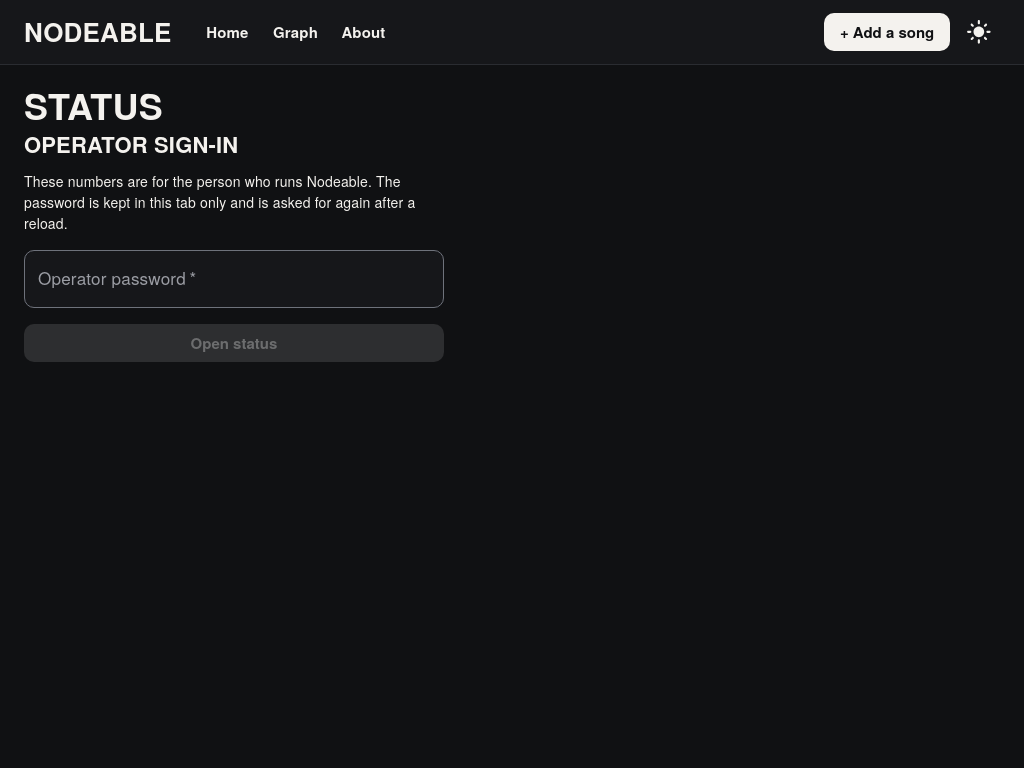
Scenario: the status page (NFR-OBS-03) › NFR_OBS_03 the right password shows the tiles, the objectives and every panel, and is kept nowhere but in memory
Step 1. Type "correct horse battery staple" into the password field labelled "Operator password *" → (234, 279), box [24, 250, 444, 308]
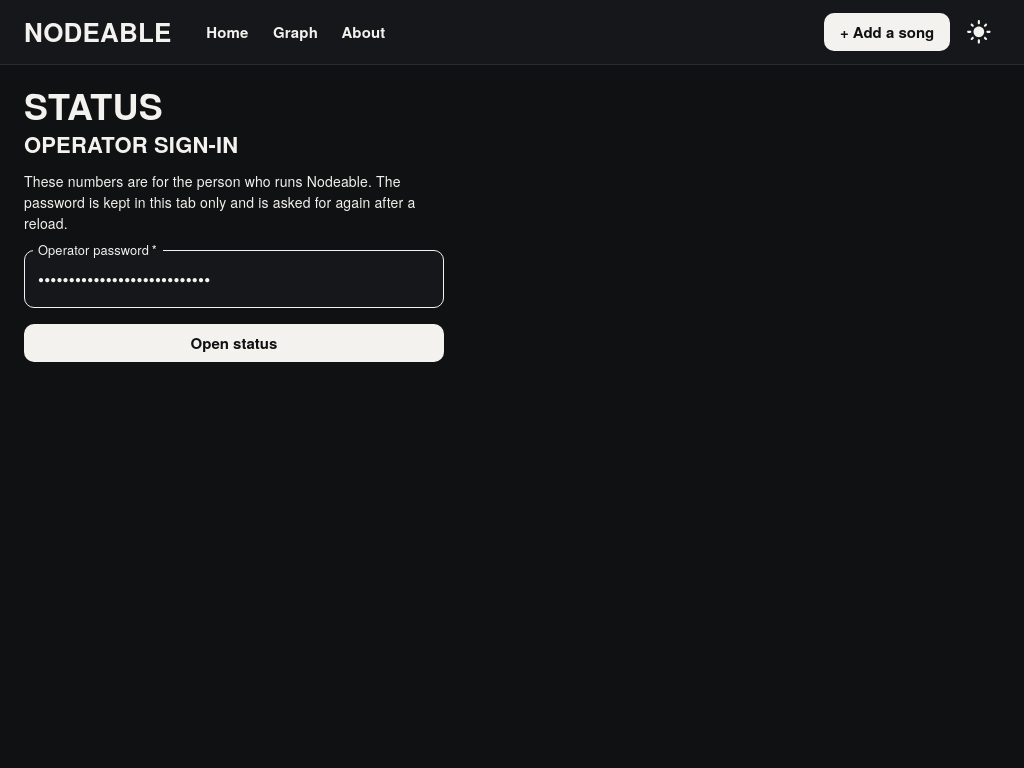
Step 2. Click the button "Open status" → (234, 343), box [24, 324, 444, 362]
(page scrolled)
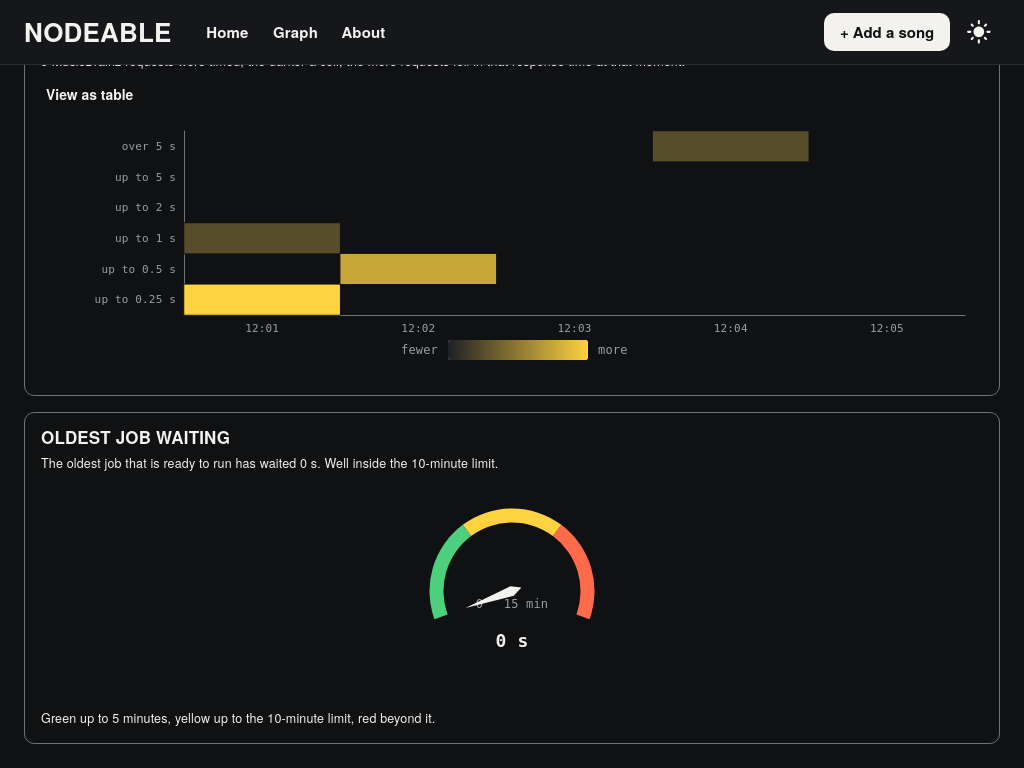
Check: the heading "MusicBrainz response time" is shown, box [41, 23, 308, 47]
Check: the heading "Oldest job waiting" is shown, box [41, 425, 230, 449]
